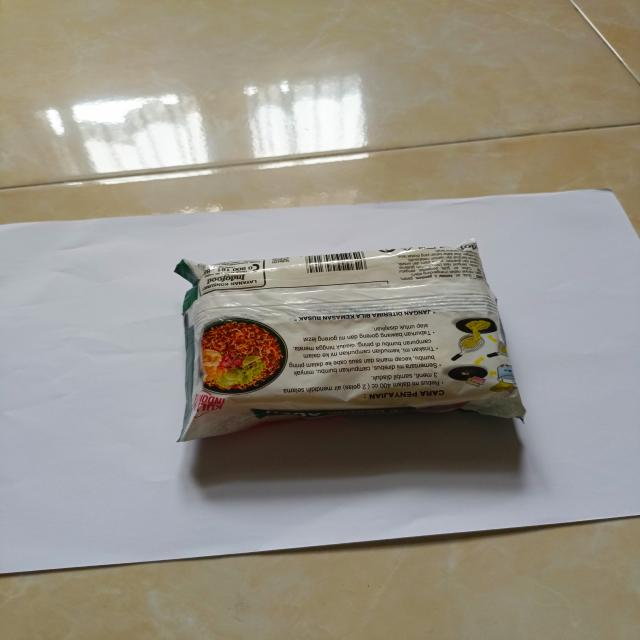gery-salut-coconut: (174, 243, 526, 445)
